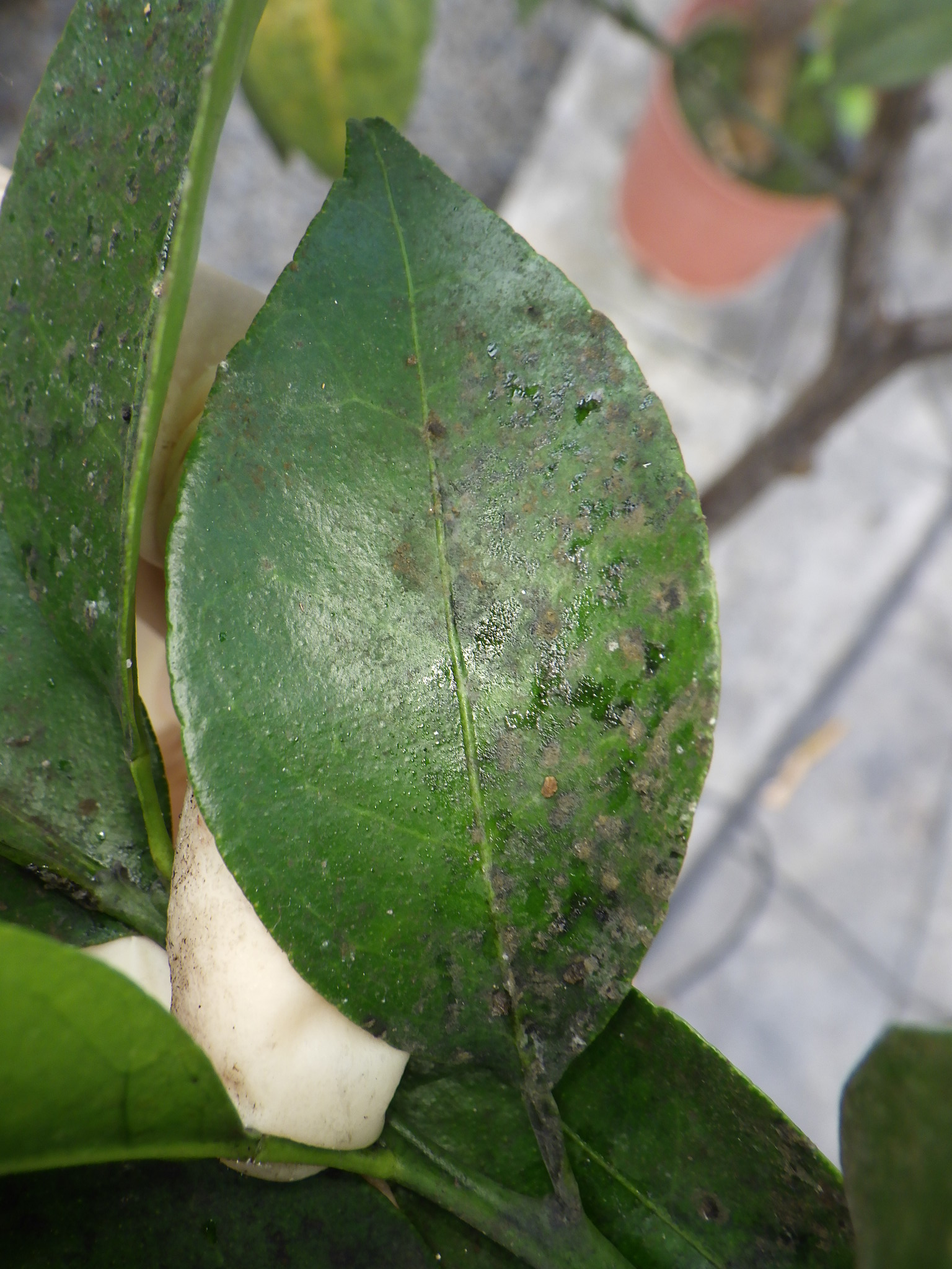Sooty_Mold: (167, 120, 718, 1221)
